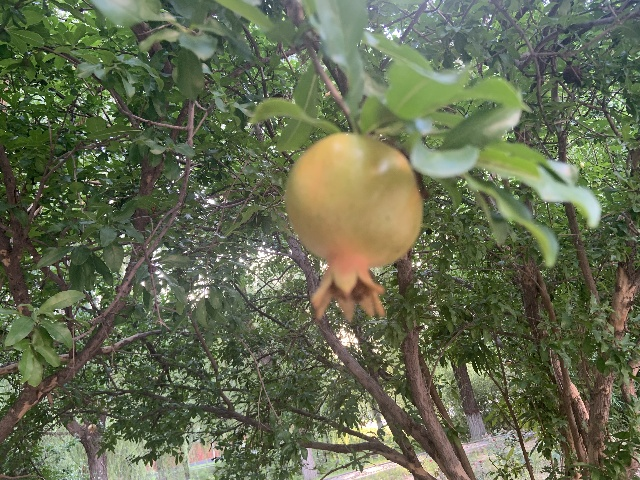mid-growth: (283, 134, 423, 322)
